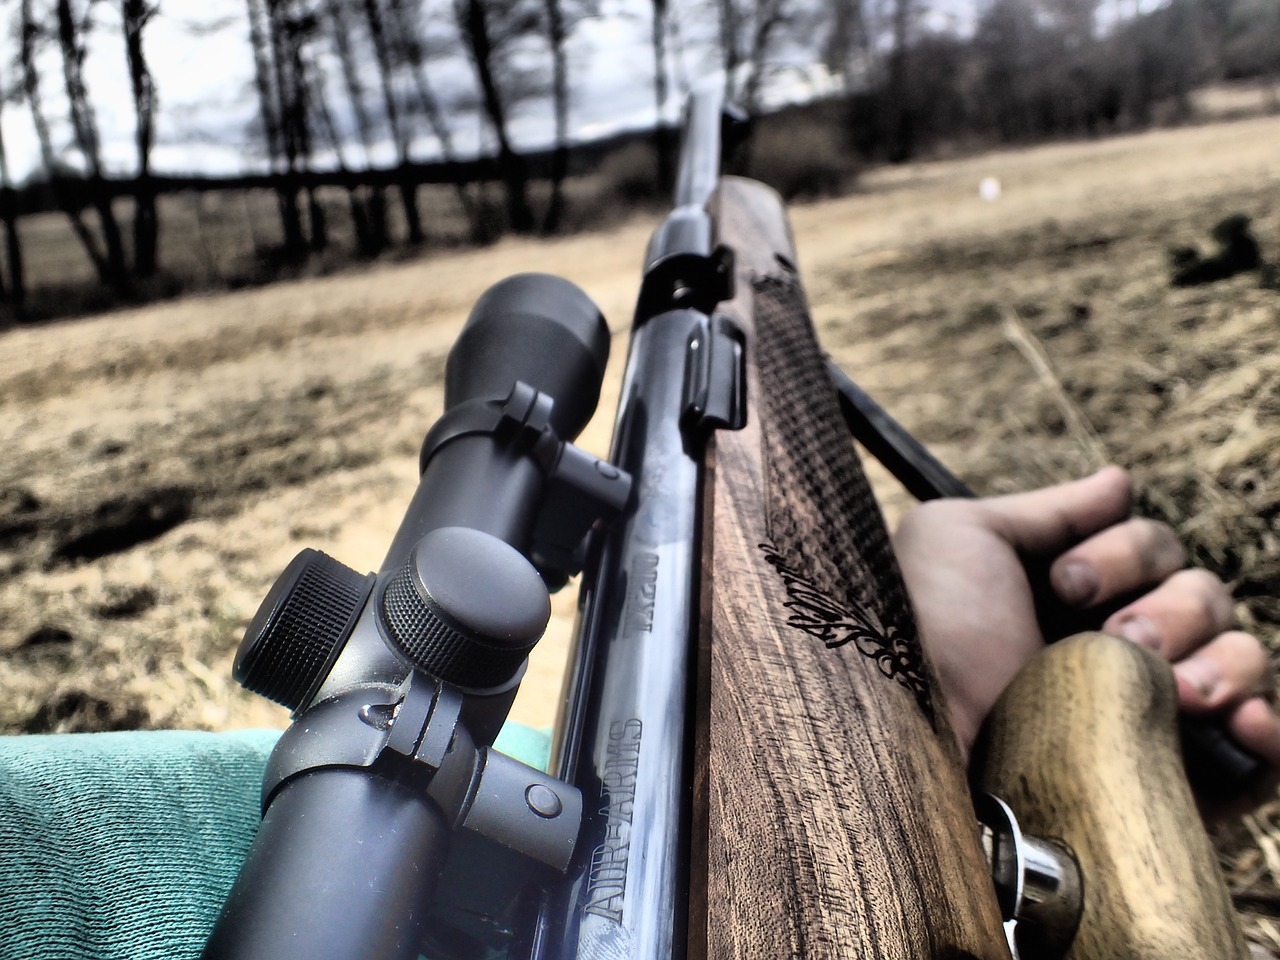gun: (194, 78, 1273, 958)
